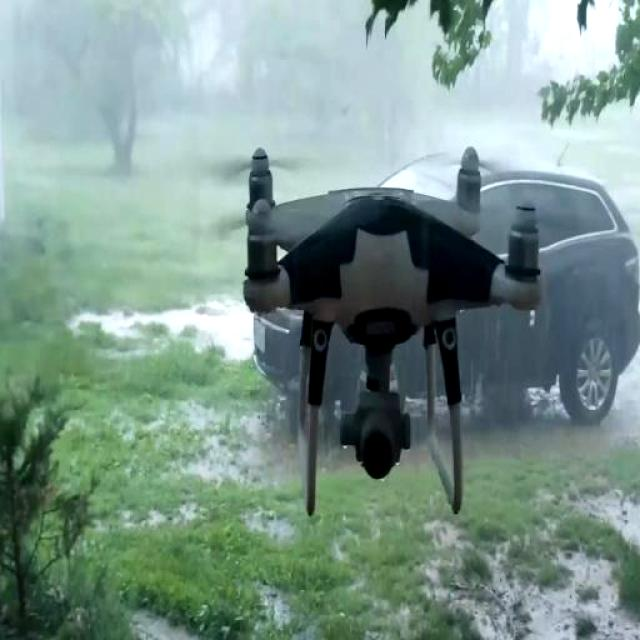bird: (238, 140, 551, 524)
